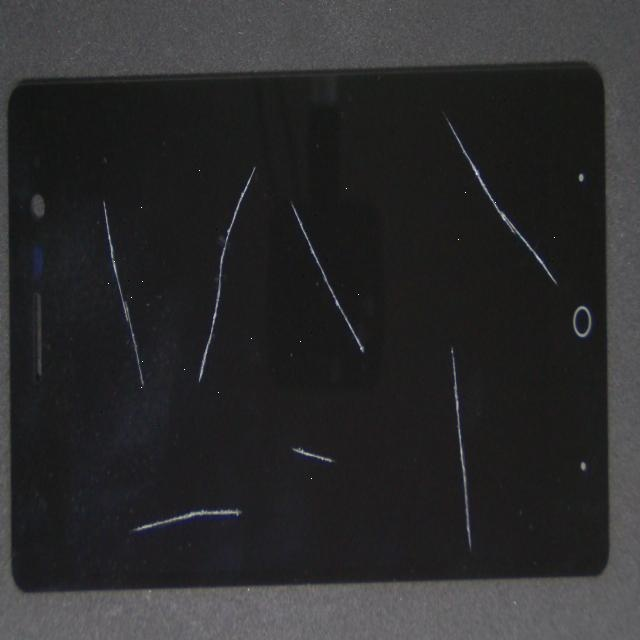scratch: (206, 109, 640, 640), (155, 0, 640, 307), (145, 193, 429, 640), (81, 135, 288, 541), (149, 62, 447, 302), (163, 274, 352, 640), (56, 30, 147, 344)
